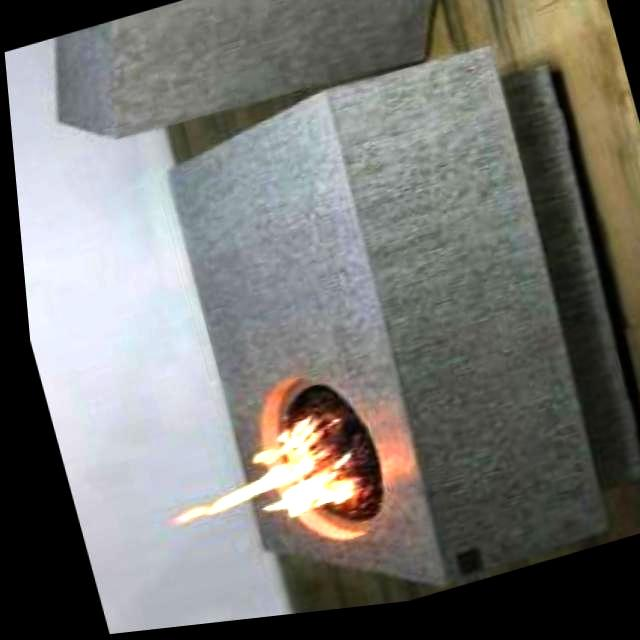fire: (130, 410, 358, 562)
